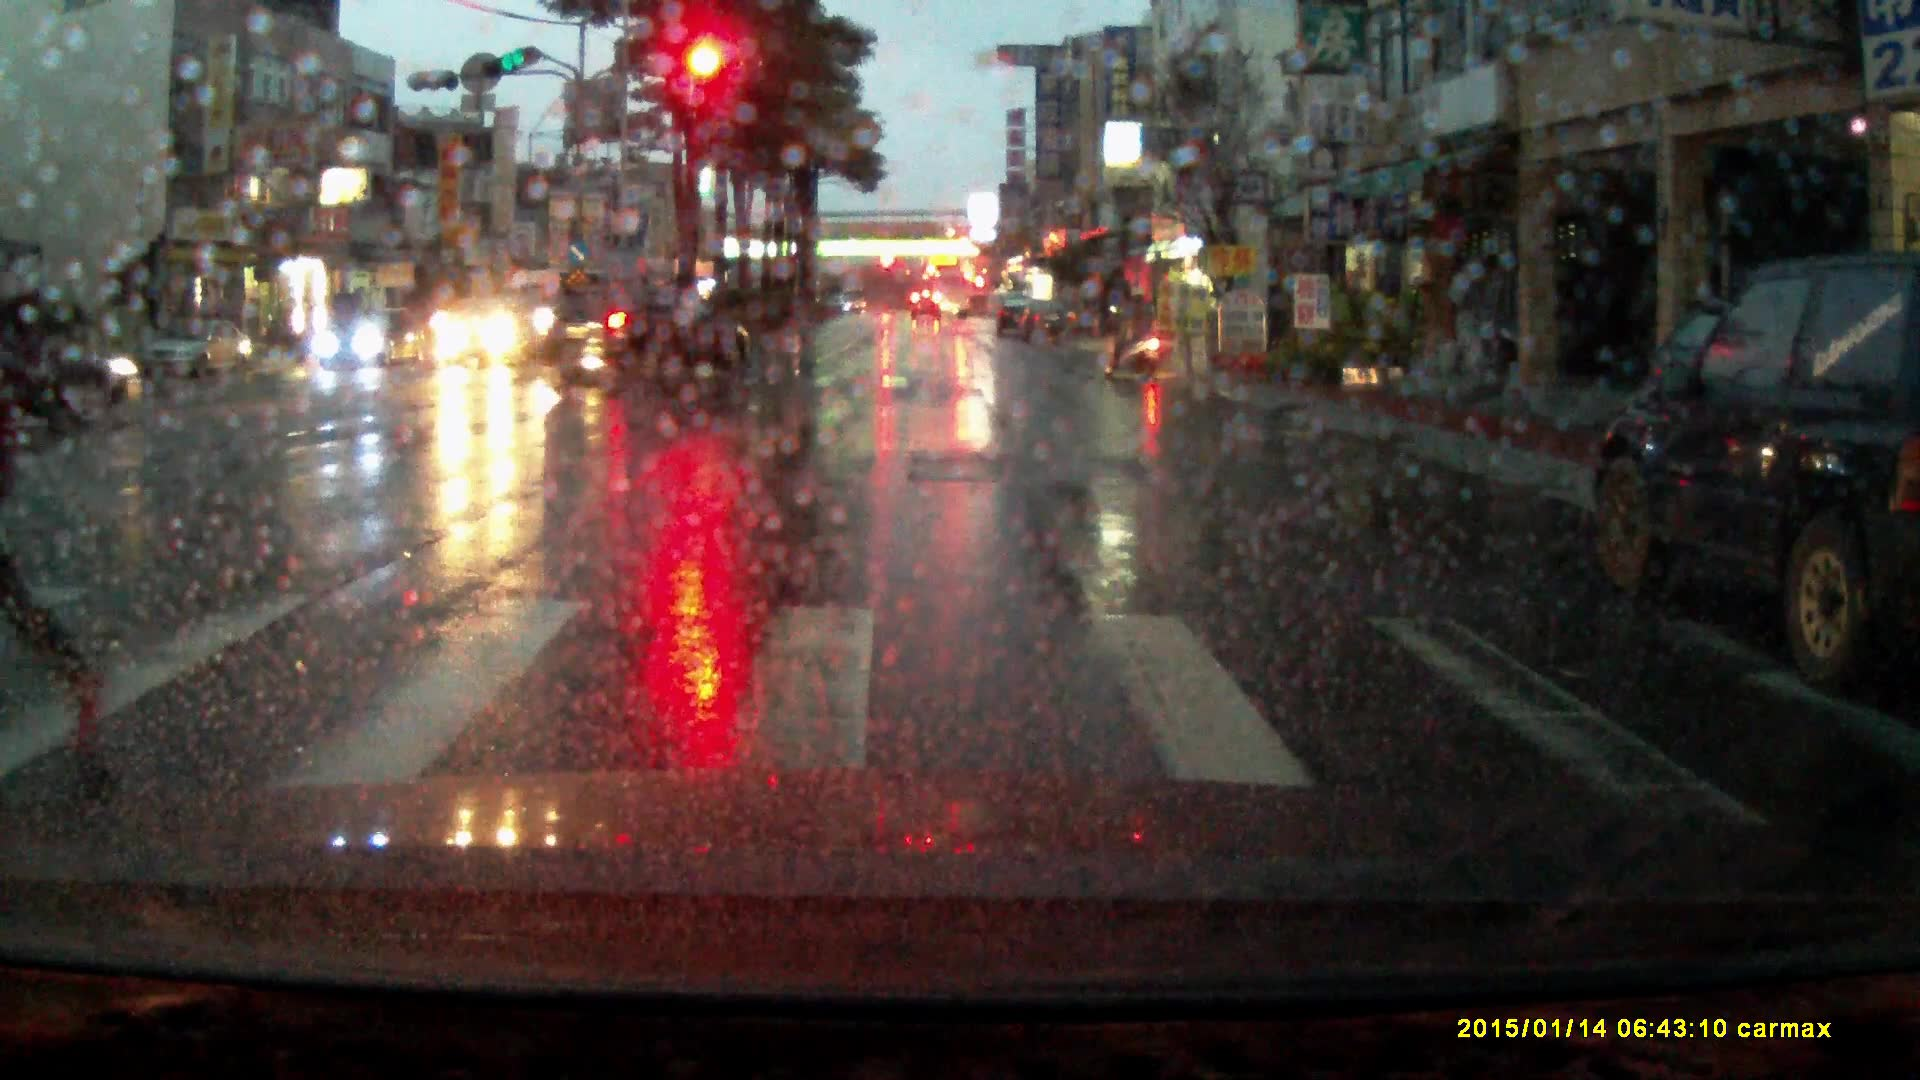rider: (1106, 278, 1169, 385)
vehicle: (1582, 248, 1920, 683), (540, 283, 759, 393), (1, 303, 148, 426), (317, 304, 429, 373), (142, 314, 253, 380), (494, 268, 591, 341), (574, 288, 664, 340), (1017, 300, 1079, 346), (931, 264, 973, 321), (995, 295, 1030, 338), (911, 291, 943, 322)
